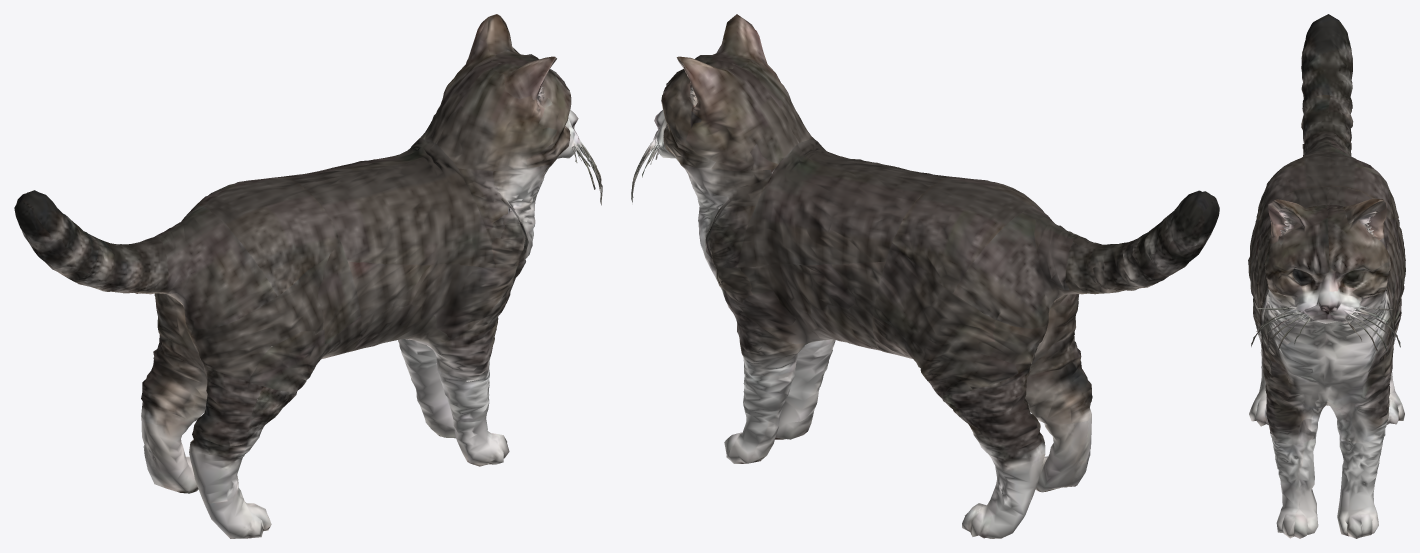
File: KYURUGACAT-lo.glb
The picture shows the model from 3 angles, left to right: view 1: azimuth 30°, elevation 25°; view 2: azimuth 150°, elevation 25°; view 3: azimuth 270°, elevation 25°; orthographic projection. The views are drawn at different scales.
Parts seen in each view (by area): view 1: tripo_node_63516225-c2f1-456e-adfd-27d0956dcbb8; view 2: tripo_node_63516225-c2f1-456e-adfd-27d0956dcbb8; view 3: tripo_node_63516225-c2f1-456e-adfd-27d0956dcbb8.
Part boxes in pixels (bbox=[...]): tripo_node_63516225-c2f1-456e-adfd-27d0956dcbb8: bbox=[14, 14, 602, 538]; tripo_node_63516225-c2f1-456e-adfd-27d0956dcbb8: bbox=[631, 14, 1219, 538]; tripo_node_63516225-c2f1-456e-adfd-27d0956dcbb8: bbox=[1248, 14, 1405, 538].
Size of the model in its own units: 1.47 by 0.9987 by 0.3999.
Materials: 1 (1 with a texture image).
